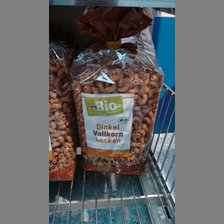pasta: (72, 45, 165, 175), (49, 43, 77, 180)
